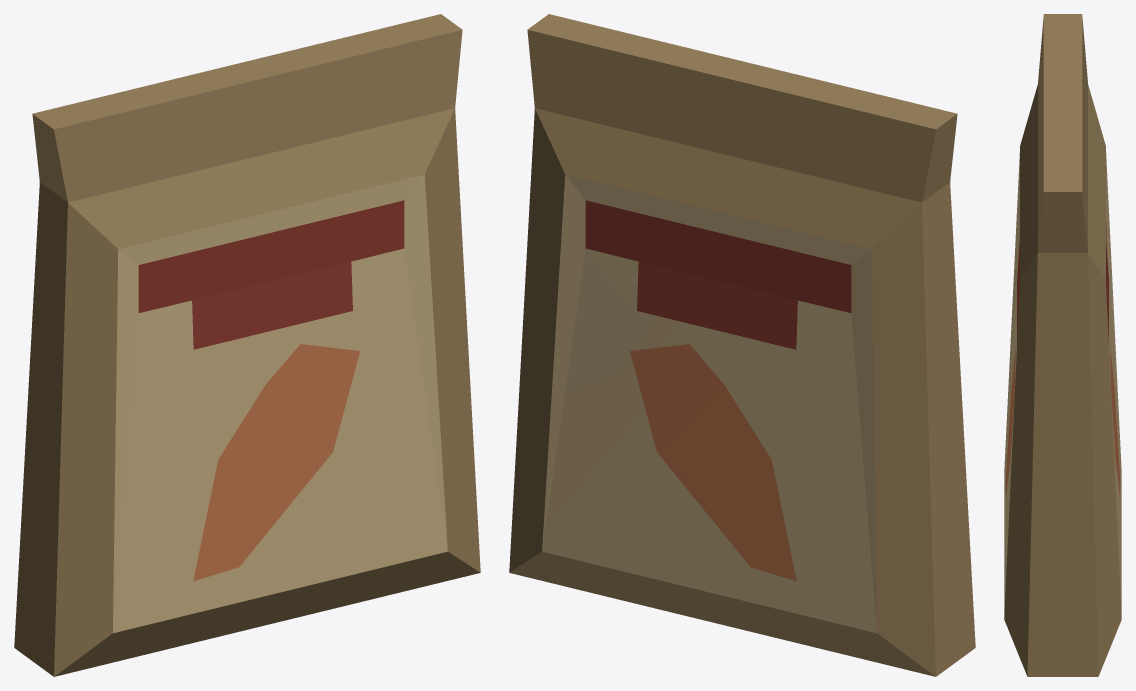
The model's file is SM_Prop_SeedPacket_02.fbx.
The picture shows the model from 3 angles, left to right: view 1: azimuth 30°, elevation 25°; view 2: azimuth 150°, elevation 25°; view 3: azimuth 270°, elevation 25°; orthographic projection. The views are drawn at different scales.
Parts seen in each view (by area): view 1: SM_Prop_SeedPacket_02; view 2: SM_Prop_SeedPacket_02; view 3: SM_Prop_SeedPacket_02.
Boxes of the visible parts, bbox=[...] form: SM_Prop_SeedPacket_02: bbox=[14, 14, 480, 676]; SM_Prop_SeedPacket_02: bbox=[509, 14, 975, 676]; SM_Prop_SeedPacket_02: bbox=[1004, 14, 1121, 676].
Bounding box in the file's own units: 22.88 × 27.59 × 6.11.
